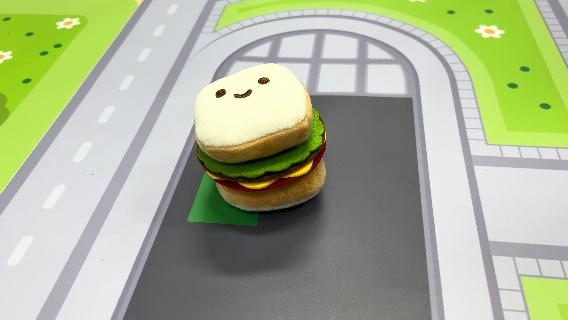sandwich: (192, 61, 330, 213)
